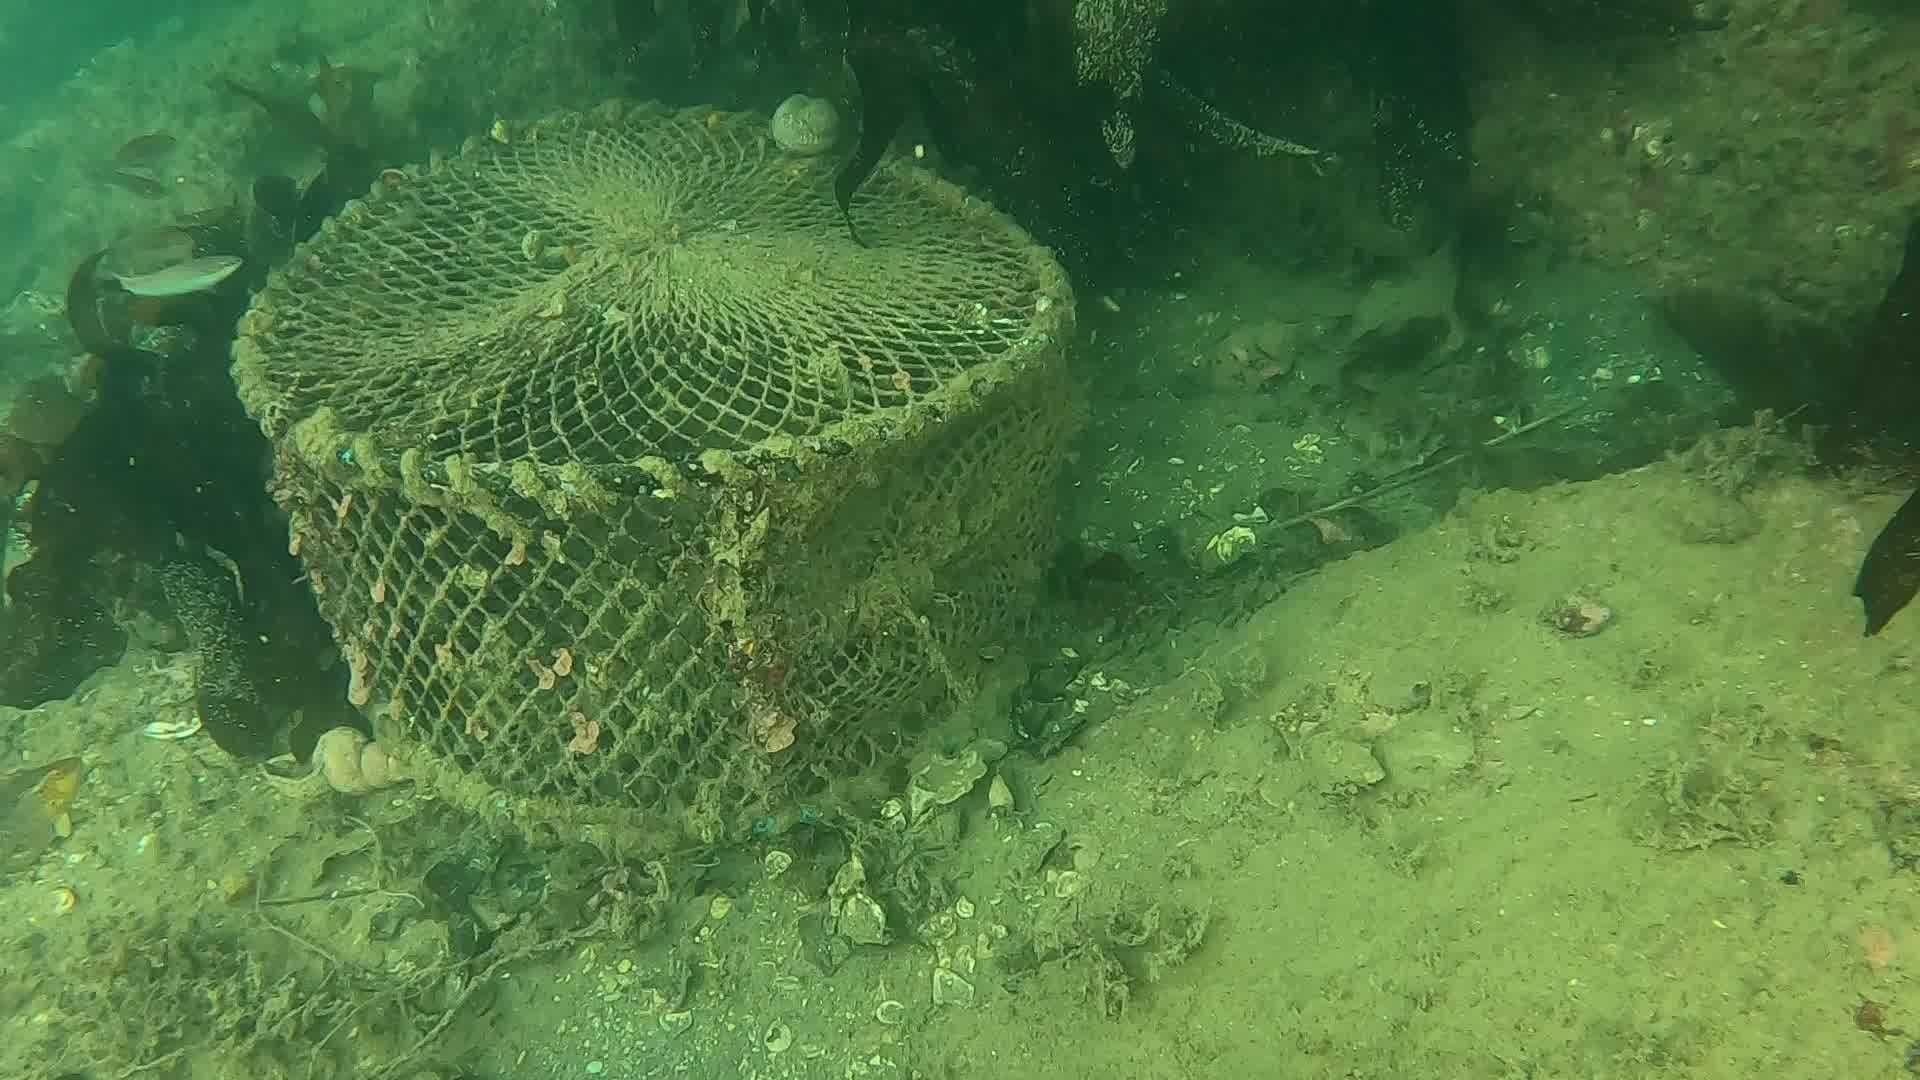circular fish trap: (229, 98, 1083, 858)
